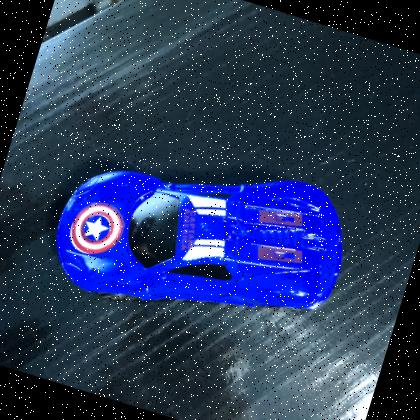Car: (32, 107, 370, 368)
